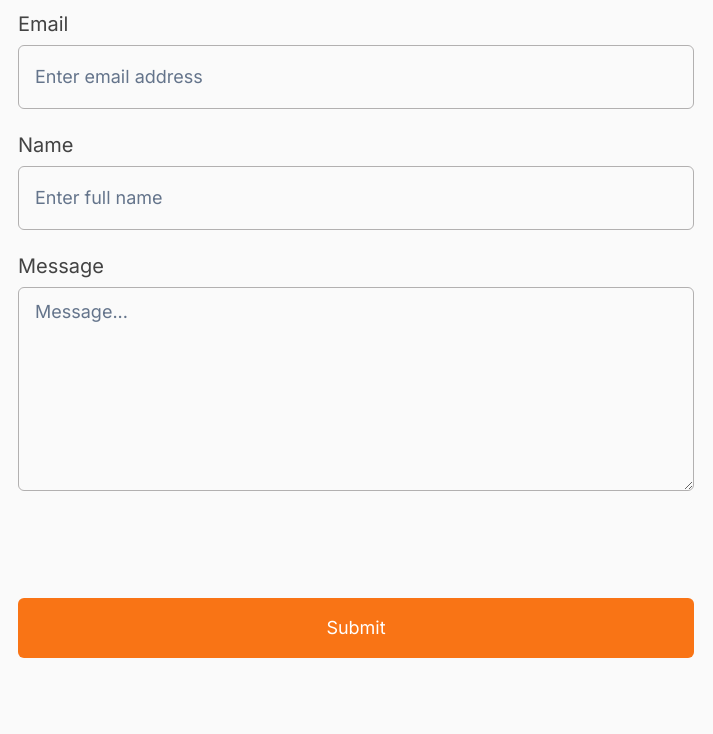
it: additionalQuestionsForm Tests › should display error messages for empty required fields
(page scrolled)
Click the button "Submit" at (356, 628), box 18,598 -> 694,658
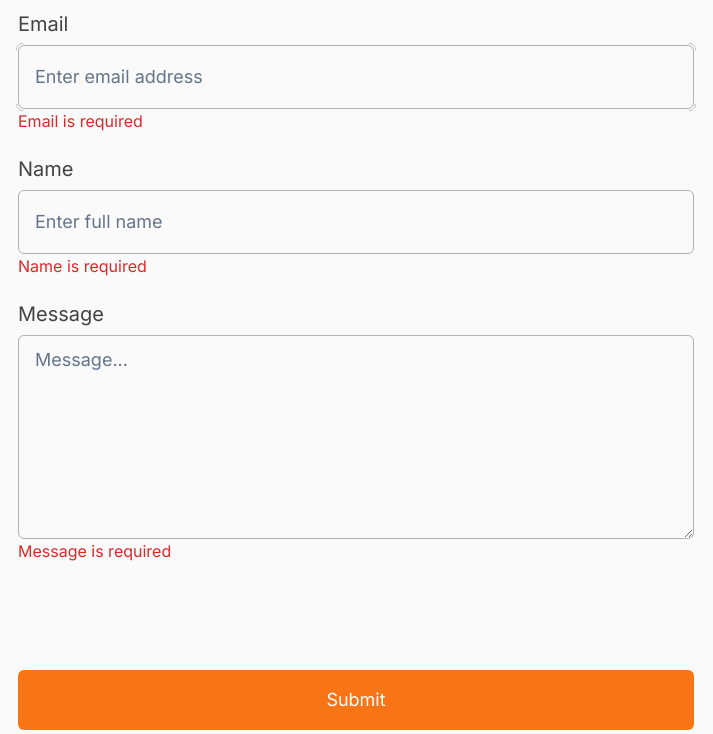
Expected: the text "Name is required" is shown, 18,256 -> 147,276
Expected: the text "Email is required" is shown, 18,111 -> 143,131
Expected: the text "Message is required" is shown, 18,541 -> 171,561
